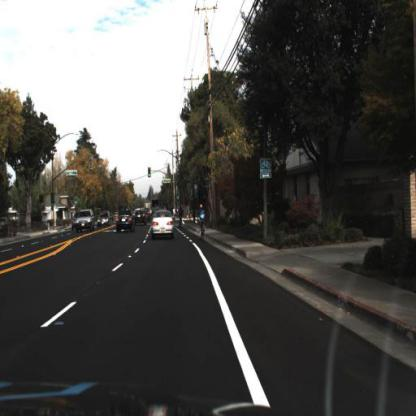biker: (195, 203, 209, 244), (198, 204, 206, 240)
car: (150, 212, 177, 243), (113, 207, 137, 238), (152, 208, 175, 238), (75, 208, 97, 236), (114, 208, 137, 233), (76, 209, 96, 236), (95, 210, 112, 233)
trafficLight-Green: (146, 164, 153, 182)
